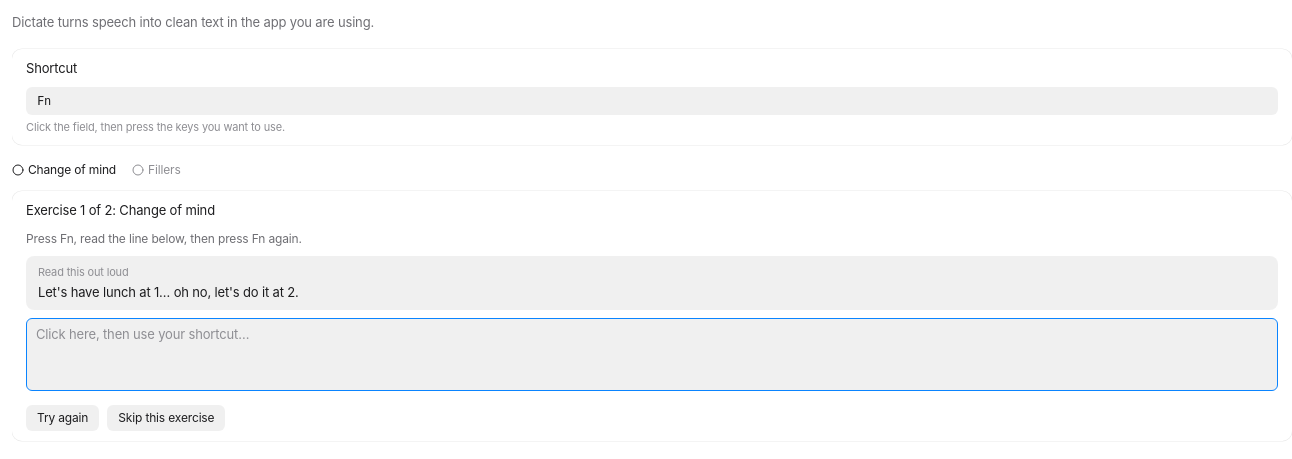
Test: Dictate exercises › completes the step when every exercise is skipped
The image size is (1292, 459).
Click the button "Skip this exercise" at (166, 418), box [107,405,225,431]
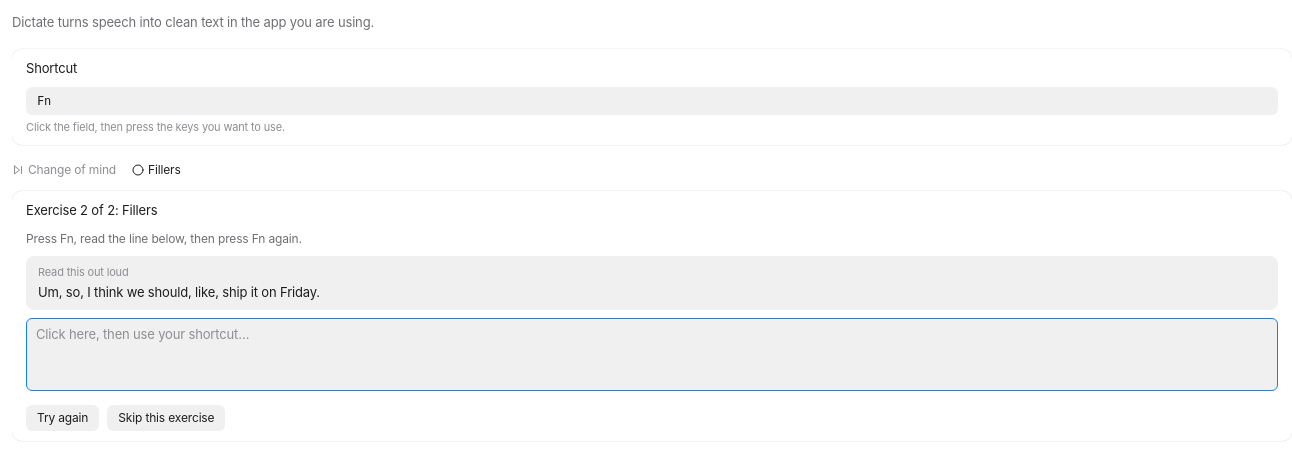
Now the text "Exercise 2 of 2: Fillers" is shown, box [26,202,157,218]
Click the button "Skip this exercise" at (166, 418), box [107,405,225,431]
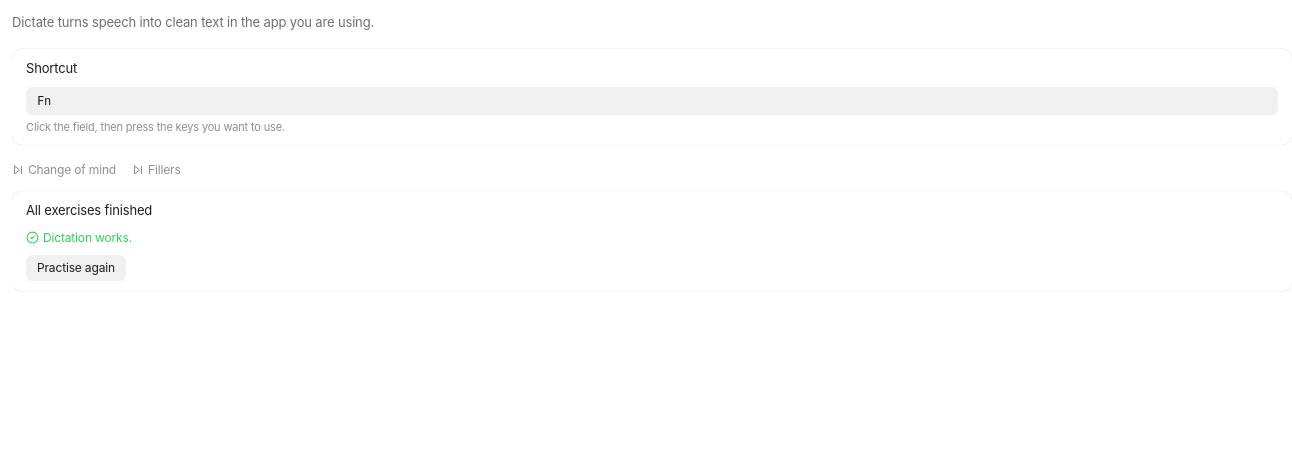
Now the number of icons named "Skipped" is 2, box [12,164,24,176]; [132,164,144,176]
